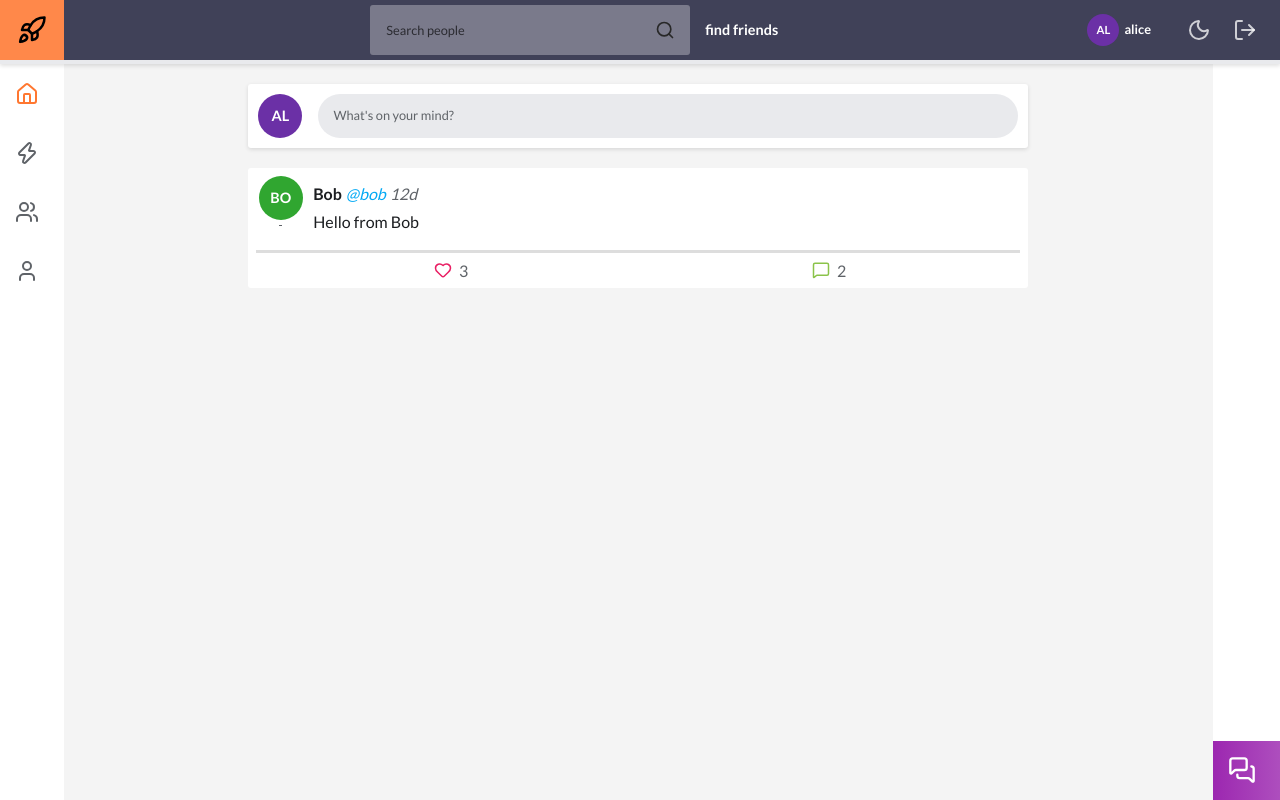
Test: comments › lists the comments once opened, oldest first
Click the button named "Comments".
click(827, 270)  # box [638, 257, 1016, 284]
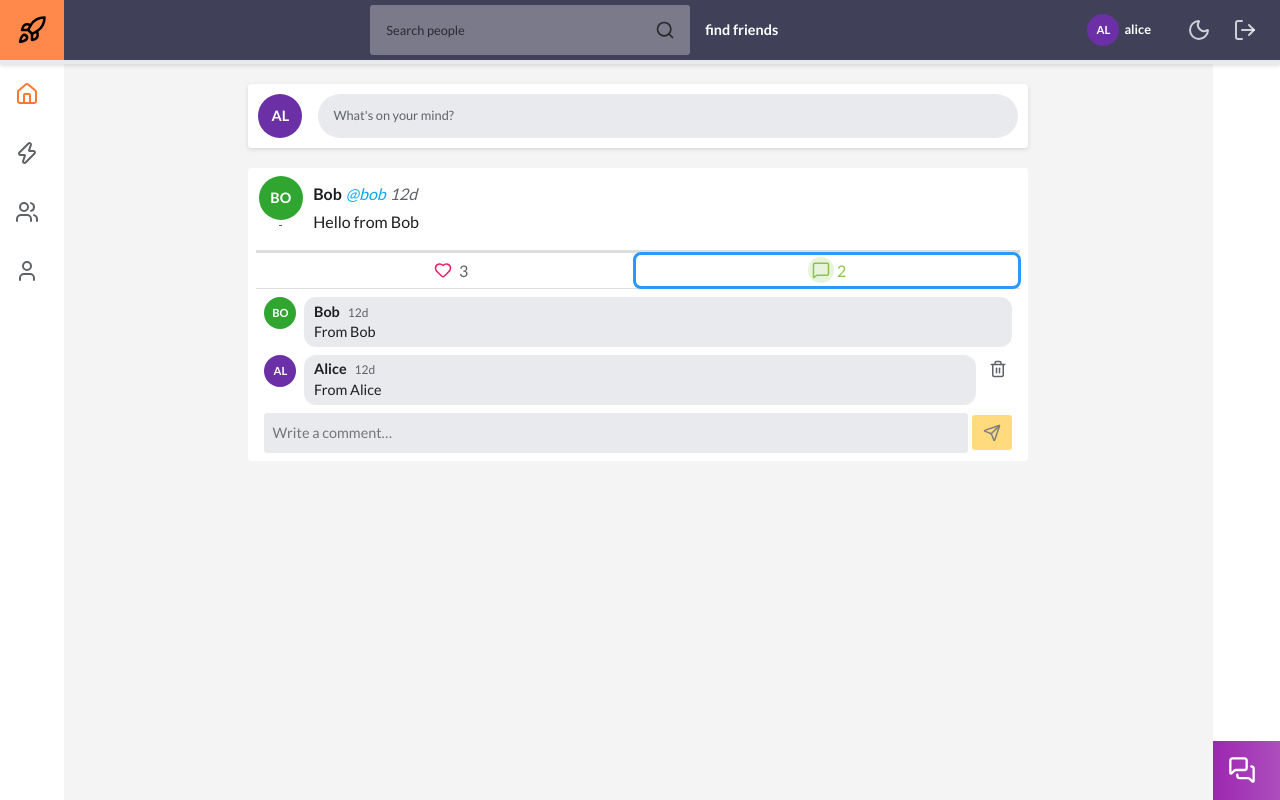
Expected: the button named "Comments" is expanded, [638, 257, 1016, 284]
Expected: the list item "BO bob 12d From Bob" is shown, [264, 297, 1012, 347]
Expected: the list item "AL alice 12d From Alice" is shown, [264, 355, 1012, 405]
